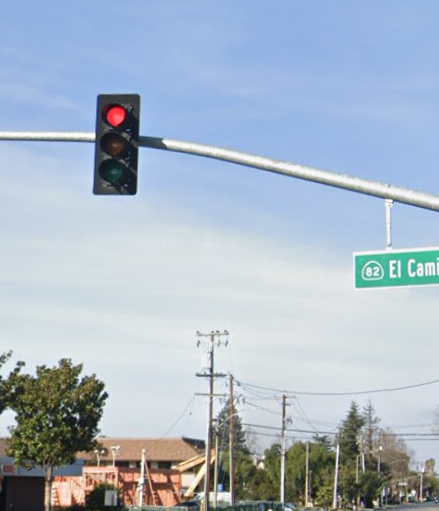red_light: (100, 96, 135, 193)
